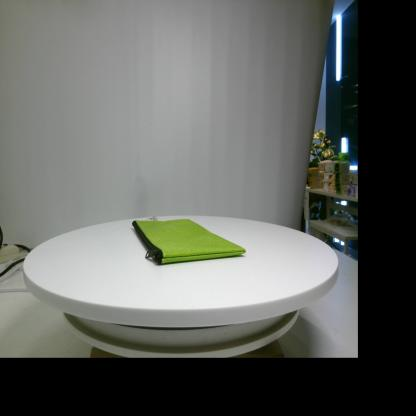Stationery: (132, 216, 246, 264)
